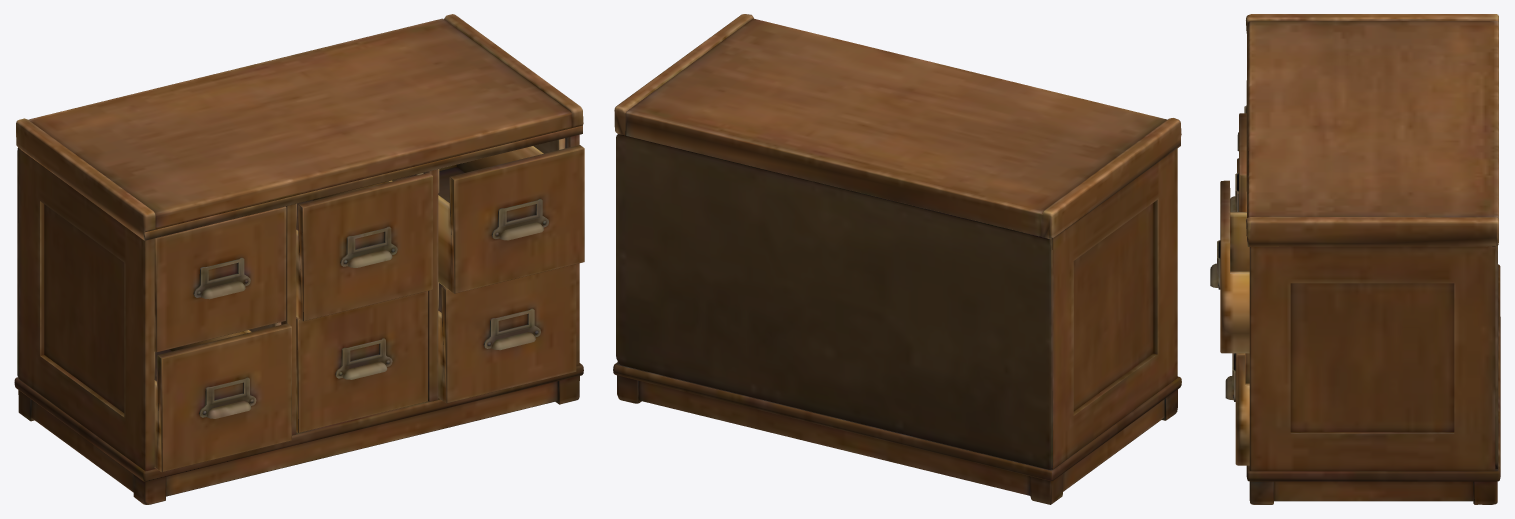
File: vintage_wooden_drawer_01.glb
3 views of the same model, side by side, from view 1: azimuth 30°, elevation 25°; view 2: azimuth 150°, elevation 25°; view 3: azimuth 270°, elevation 25° (orthographic). The views are drawn at different scales.
Parts seen in each view (by area): view 1: vintage_wooden_drawer_01_body; view 2: vintage_wooden_drawer_01_body; view 3: vintage_wooden_drawer_01_body.
Boxes of the visible parts, box(x1,y1,x2,y2) form: vintage_wooden_drawer_01_body: box(14, 14, 584, 504); vintage_wooden_drawer_01_body: box(613, 14, 1181, 504); vintage_wooden_drawer_01_body: box(1210, 14, 1500, 504).
Size of the model in its own units: 1.72 by 1.09 by 1.01.
Materials: 1 (1 with a texture image).
